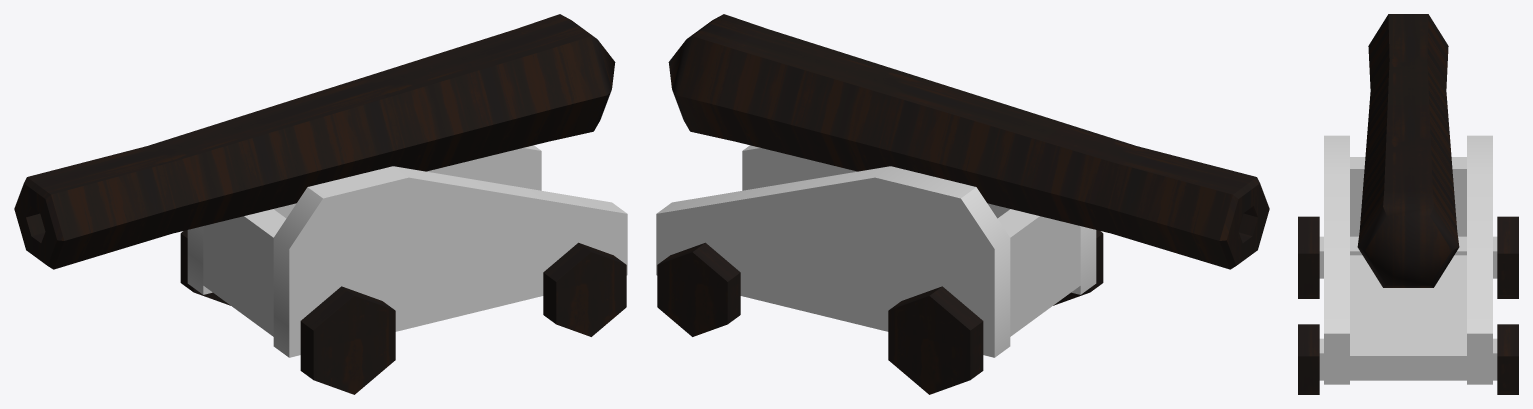
Rendered from SM_Morin_Cannone_LOD2.fbx.
3 renders of one model, left to right at view 1: azimuth 30°, elevation 25°; view 2: azimuth 150°, elevation 25°; view 3: azimuth 270°, elevation 25°, orthographic. The views are drawn at different scales.
Parts seen in each view (by area): view 1: SM_Morin_Cannone_LOD2; view 2: SM_Morin_Cannone_LOD2; view 3: SM_Morin_Cannone_LOD2.
Part boxes in pixels (box(x1,y1,x2,y2)): SM_Morin_Cannone_LOD2: box(14, 14, 627, 394); SM_Morin_Cannone_LOD2: box(656, 14, 1269, 394); SM_Morin_Cannone_LOD2: box(1298, 14, 1518, 394).
Bounding box in the file's own units: 257 × 102 × 106.
Materials: 2 (1 with a texture image).
